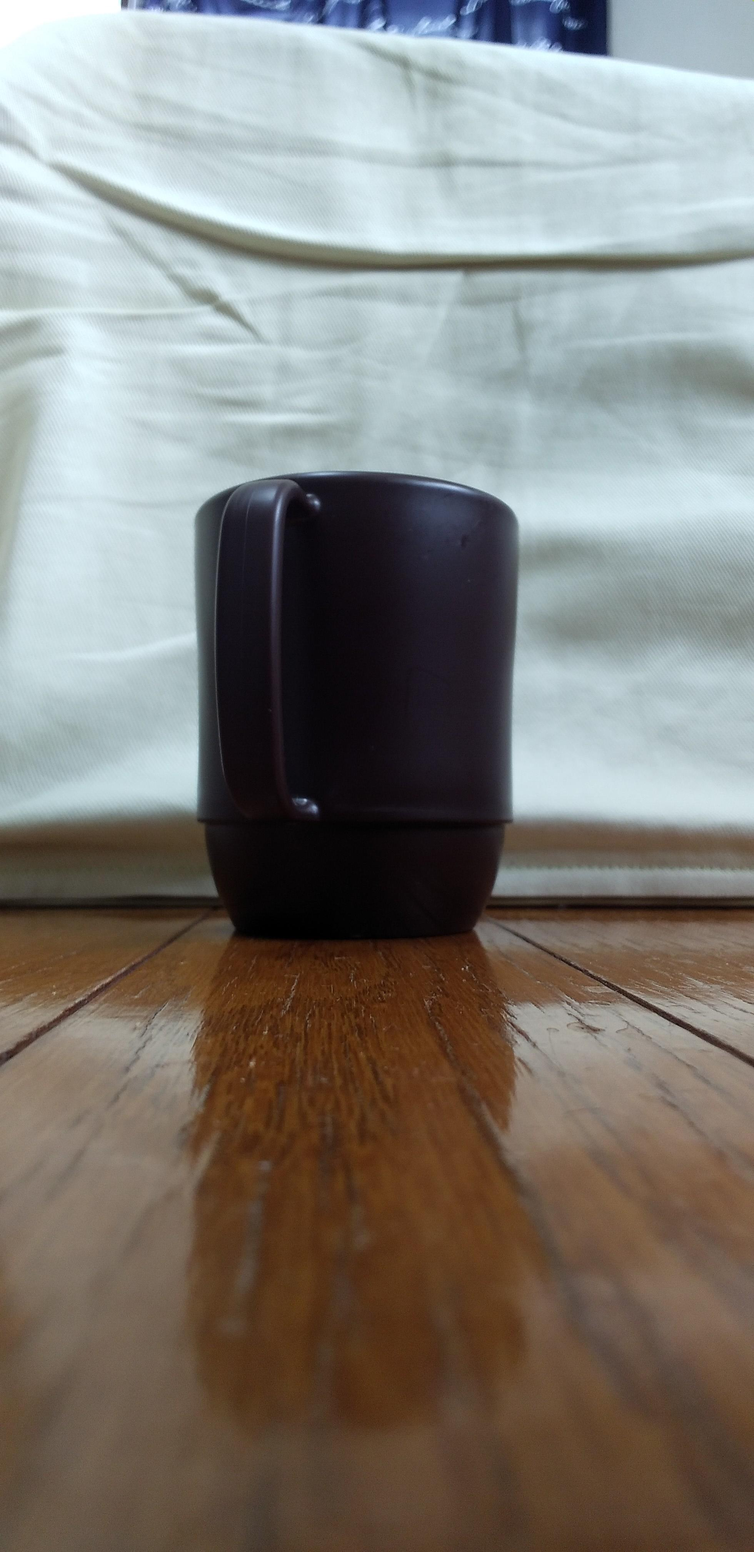mug-real100-3d100: (196, 472, 517, 938)
